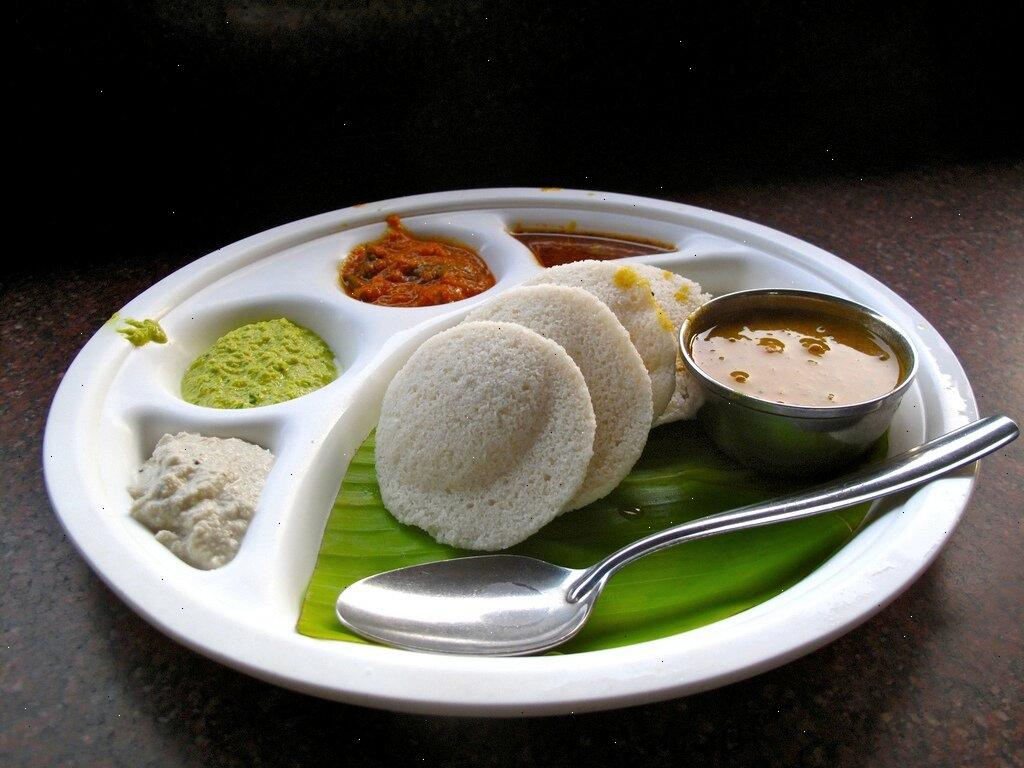coconut chutney: (115, 413, 259, 551)
sambhar: (385, 266, 688, 523), (711, 271, 901, 421)
